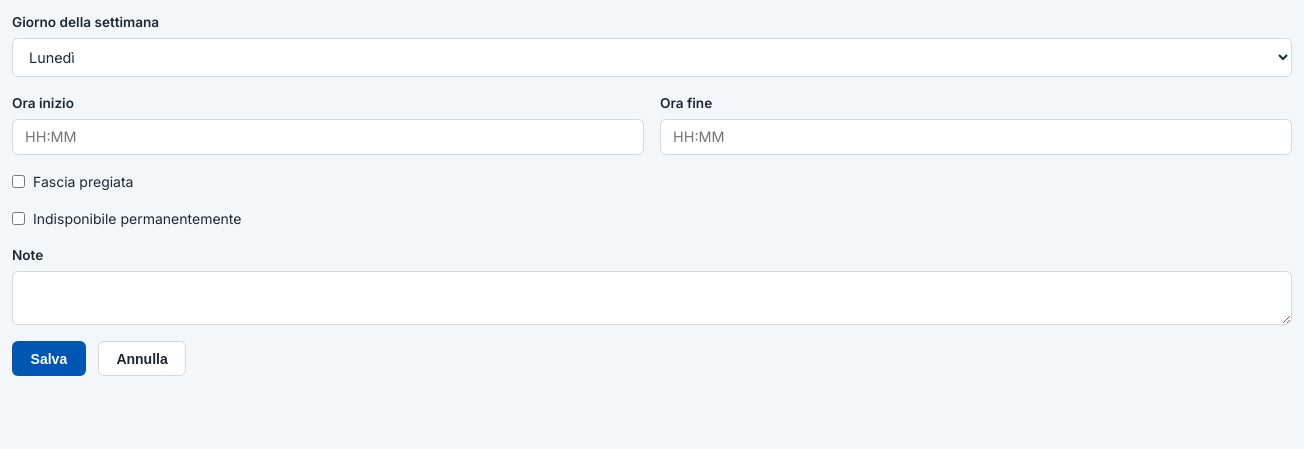
Test: SlotForm › errore dal backend (409, sovrapposizione) mostrato nel form
Select "Lunedì" in the dropdown labelled "Giorno della settimana" at (652, 57), box [12, 38, 1292, 77]
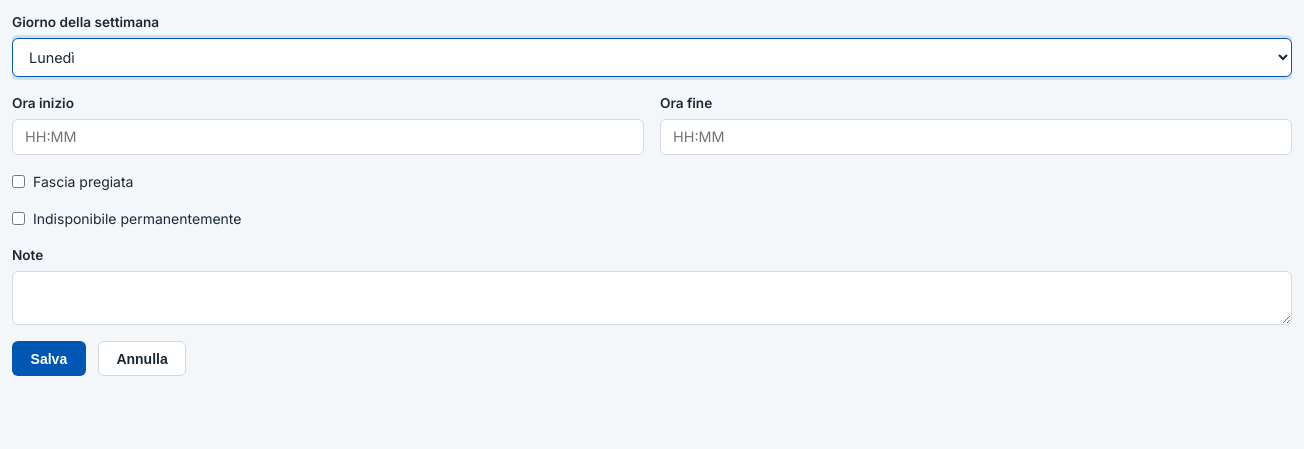
Type "18:00" into the field labelled "Ora inizio".
click(328, 137); type("18:00")  # box [12, 119, 644, 155]
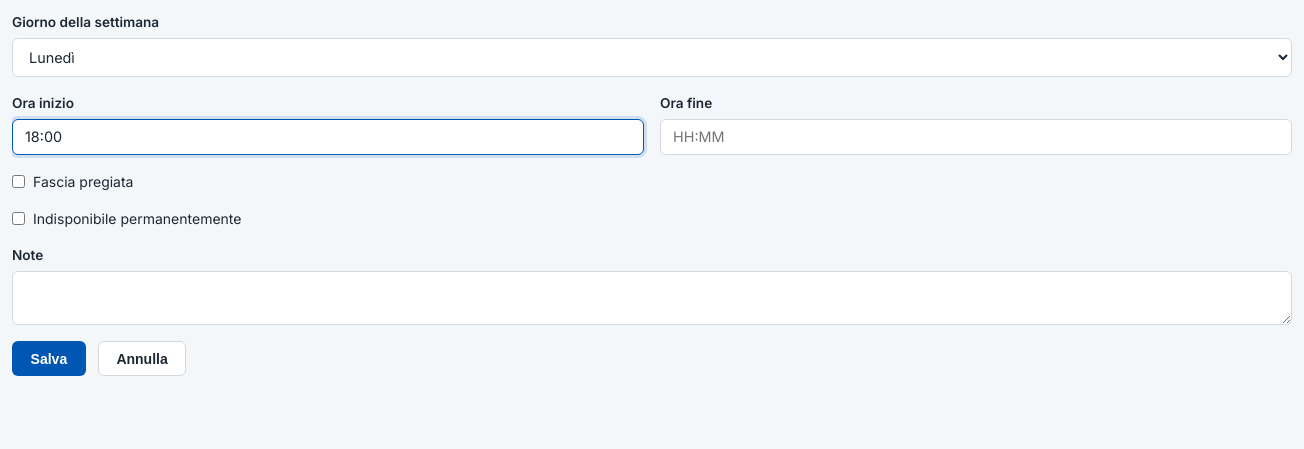
Type "19:00" into the field labelled "Ora fine".
click(976, 137); type("19:00")  # box [660, 119, 1292, 155]
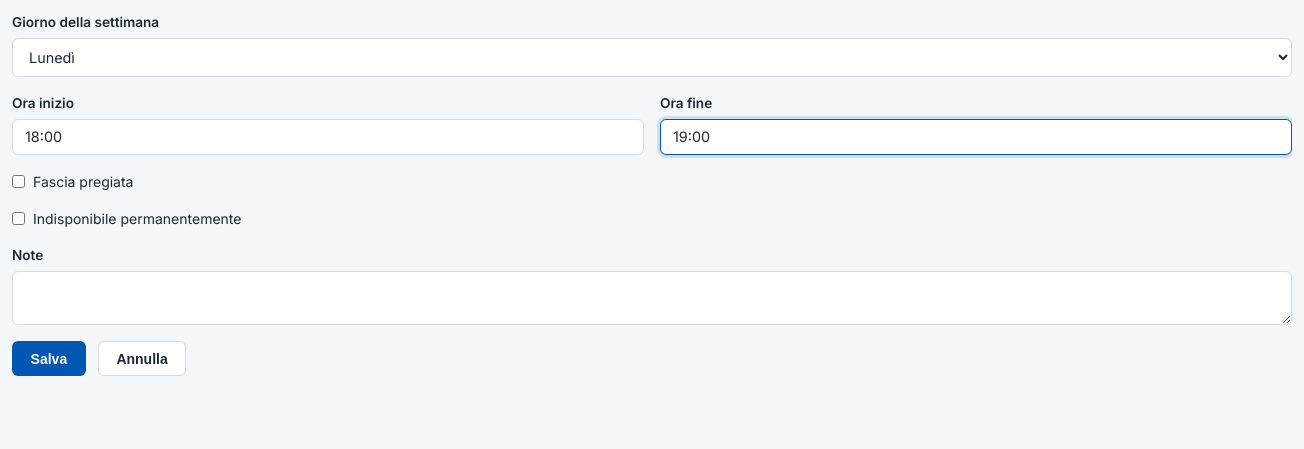
Click the button "Salva".
click(49, 358)  # box [12, 341, 86, 376]
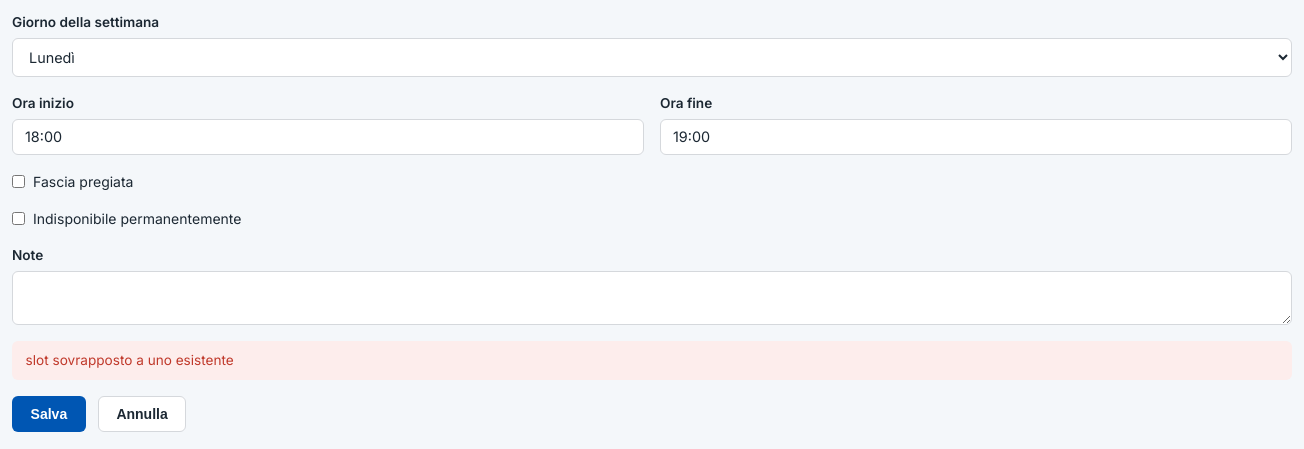
Expected: the text "slot sovrapposto a uno esistente" is shown, [12, 341, 1292, 380]
